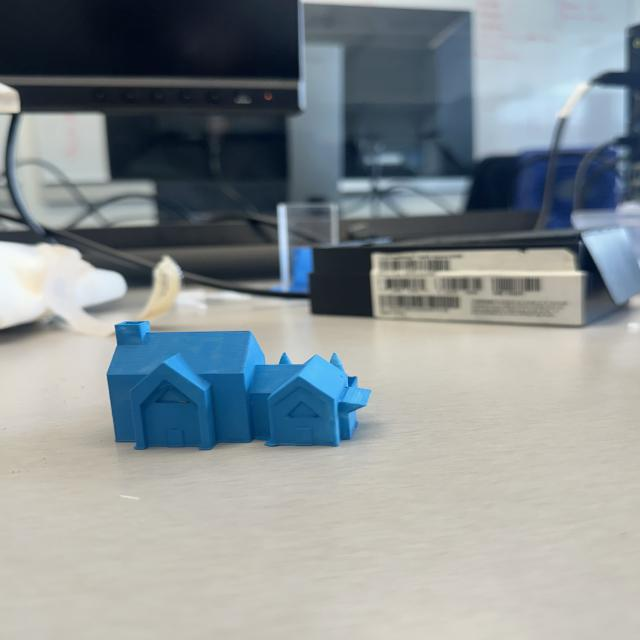house: (104, 318, 372, 447)
